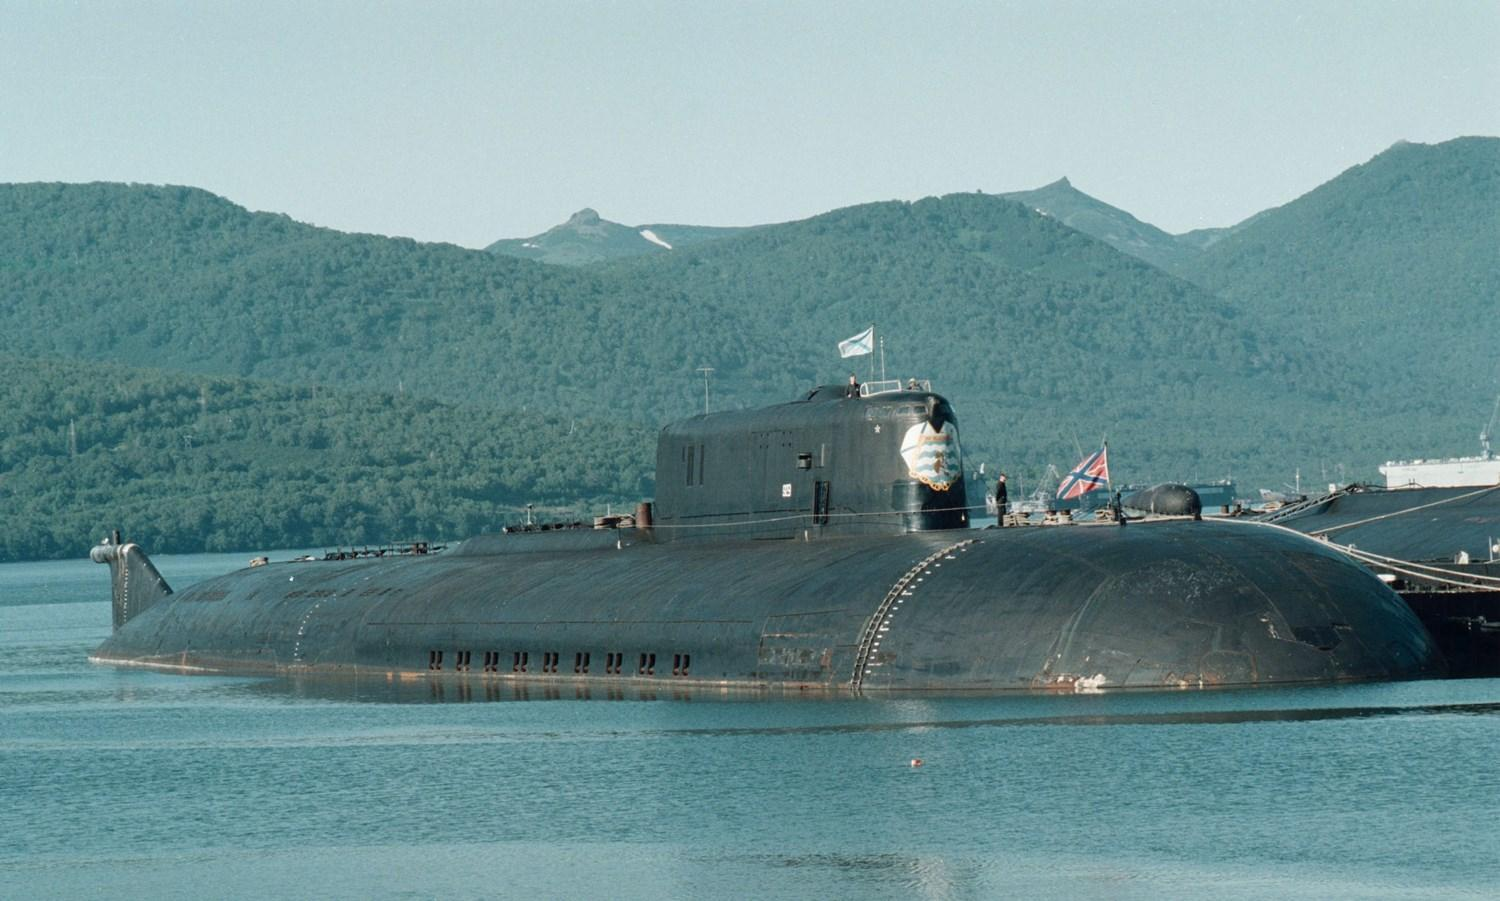Submarine: (0, 217, 1500, 835)
